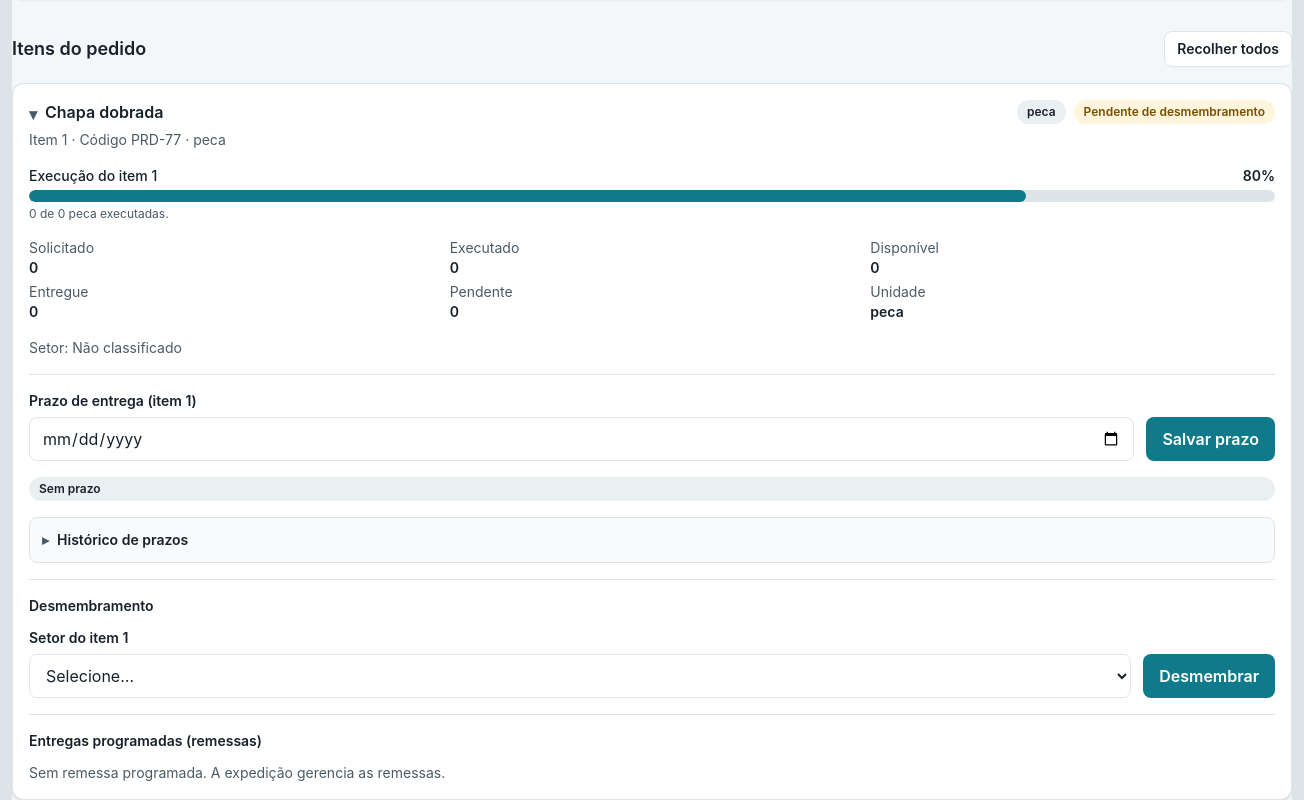
PedidoGerentePage › reflete o prazo persistido devolvido pela API após salvar (FEP-05, AD-009)
(page scrolled)
Type "2026-02-01" into the date field labelled "Prazo de entrega (item 1)". click: (582, 439)
box: x1=29 y1=417 x2=1134 y2=461
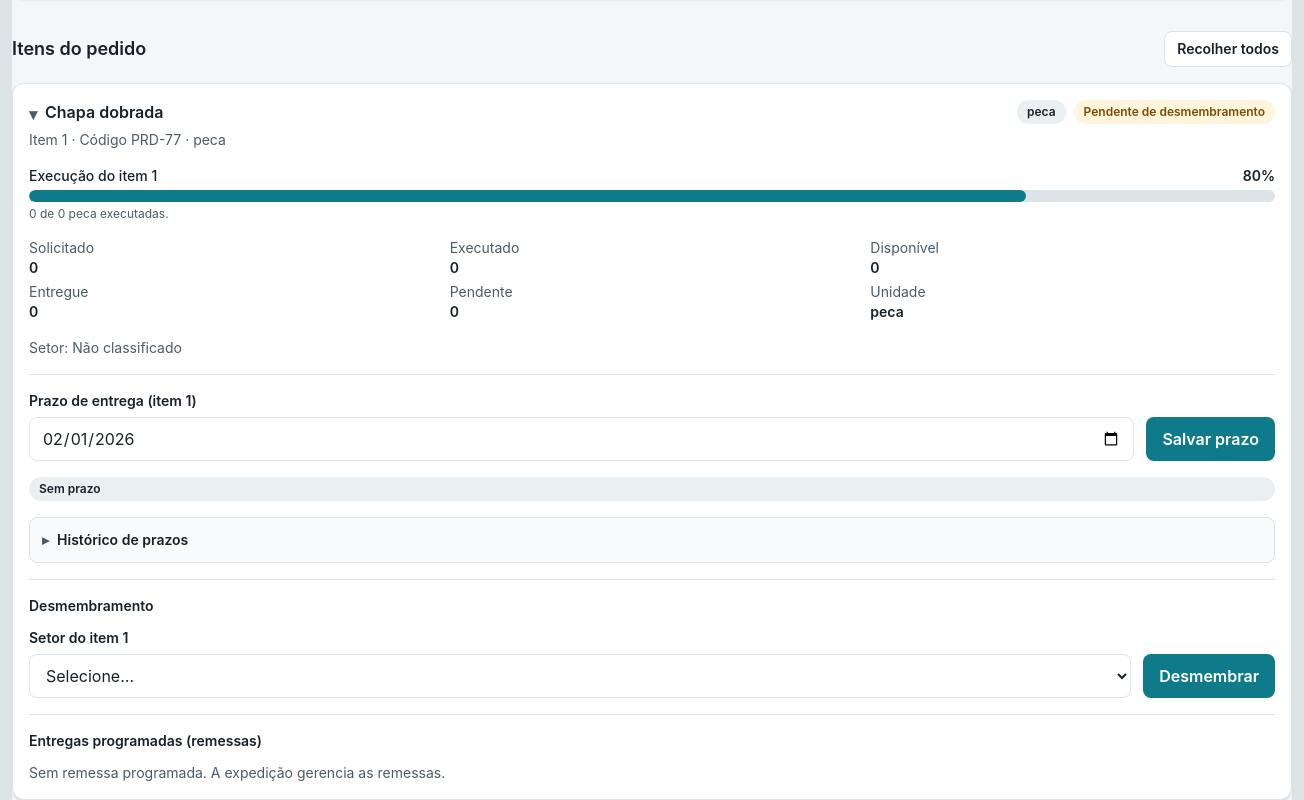
Click the button with aria-label "Salvar prazo de entrega (item 1)". click: (1211, 439)
box: x1=1146 y1=417 x2=1275 y2=461
(page scrolled)
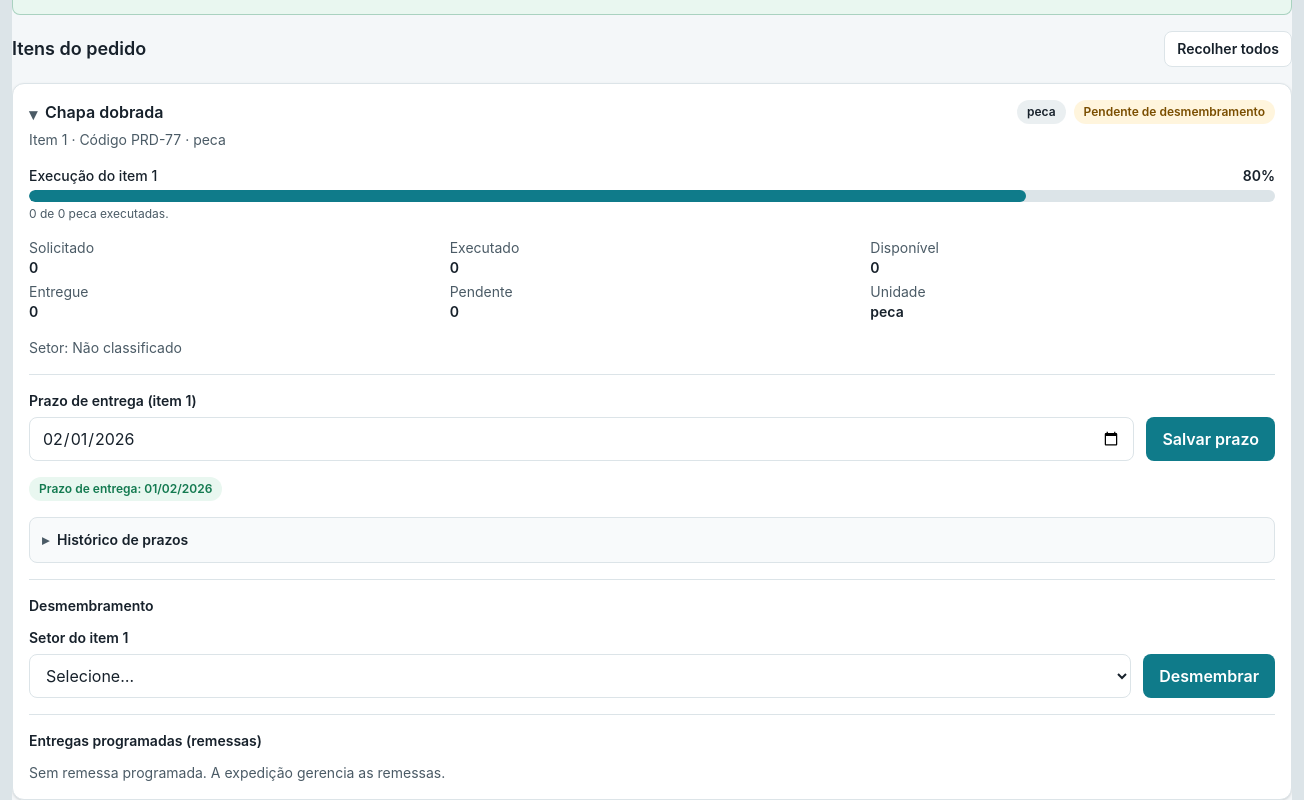
Expected: the text "Prazo de entrega: 01/02/2026" is shown, x1=29 y1=477 x2=222 y2=501
